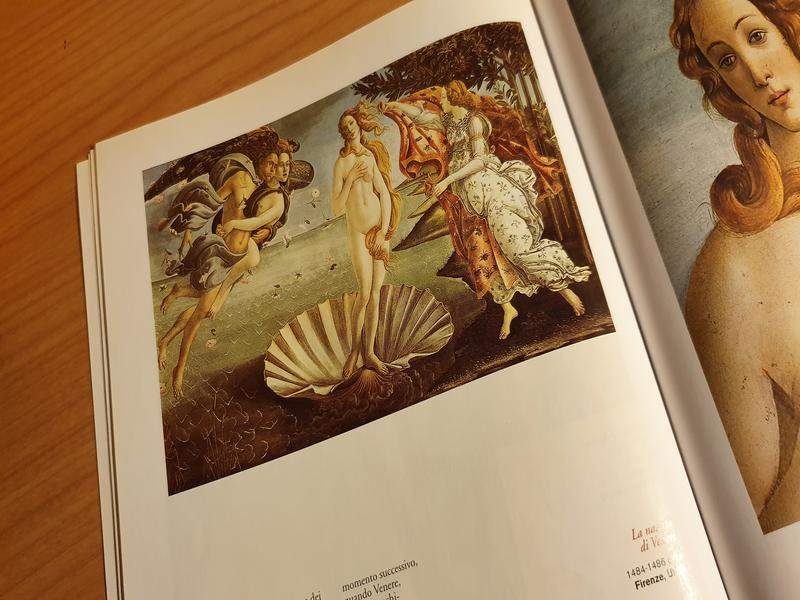Venere: (139, 20, 618, 502)
